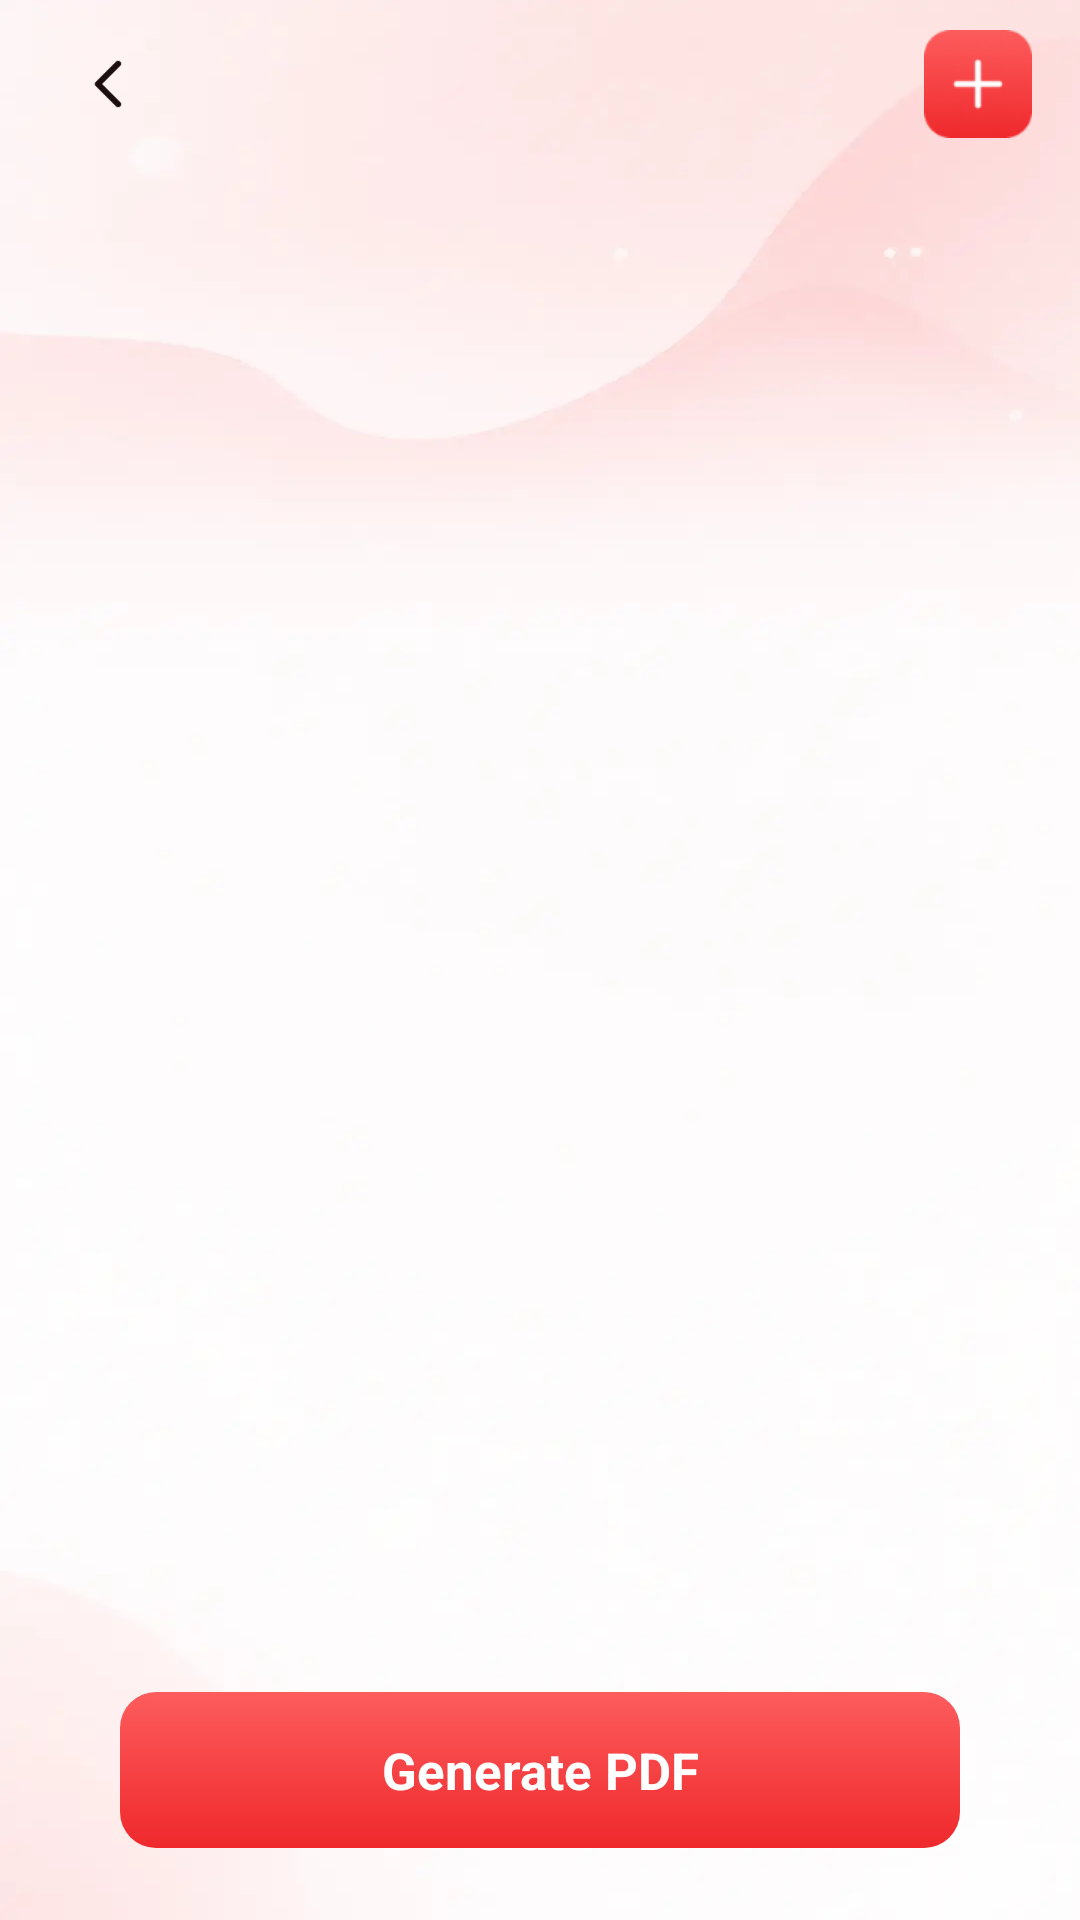

Locate icon controls on the screen. Image size 1080×1920, boxes as (x1, y1, x2, y2).
Add: (924, 30, 1032, 138)
Back: (94, 60, 122, 108)
